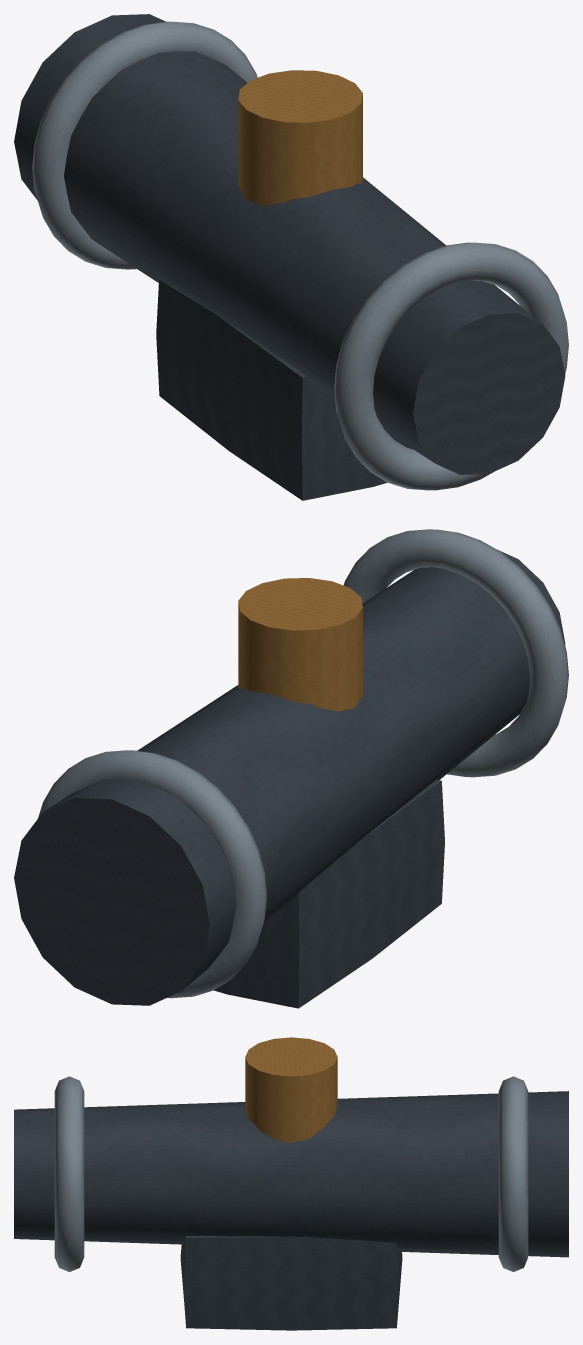
3 renders of one model, top to bottom at view 1: azimuth 30°, elevation 25°; view 2: azimuth 150°, elevation 25°; view 3: azimuth 270°, elevation 25°, orthographic. The views are drawn at different scales.
Parts seen in each view (by area): view 1: iron.0, iron.3, steel.2, brass.4, steel.1; view 2: iron.0, iron.3, steel.2, brass.4, steel.1; view 3: iron.0, iron.3, brass.4, steel.1, steel.2.
Part boxes in pixels (bbox=[...]): iron.0: bbox=[14, 14, 565, 474]; iron.3: bbox=[156, 280, 413, 500]; steel.2: bbox=[334, 242, 568, 490]; brass.4: bbox=[238, 70, 362, 205]; steel.1: bbox=[32, 21, 257, 269]; iron.0: bbox=[14, 549, 565, 1005]; iron.3: bbox=[214, 779, 444, 1008]; steel.2: bbox=[343, 529, 568, 777]; brass.4: bbox=[238, 578, 362, 711]; steel.1: bbox=[38, 750, 266, 998]; iron.0: bbox=[14, 1091, 568, 1257]; iron.3: bbox=[180, 1236, 402, 1330]; brass.4: bbox=[245, 1037, 337, 1142]; steel.1: bbox=[498, 1076, 528, 1271]; steel.2: bbox=[54, 1076, 84, 1271].
Size of the model in its own units: 0.106 by 0.15 by 0.3.
3 materials, 3 textured.
